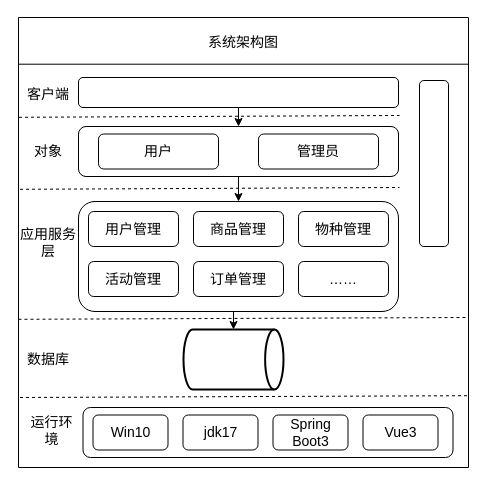
The diagram is 487 pixels wide and 485 high, and some of its shapes have lost their labels. The shapes that lost their labels are listed below. From the top down, each one's centre as x and y in pixels, then its label:
At pixel 238 92: "pc端设备".
At pixel 433 163: "用户授权".
At pixel 233 359: "MySQL".
